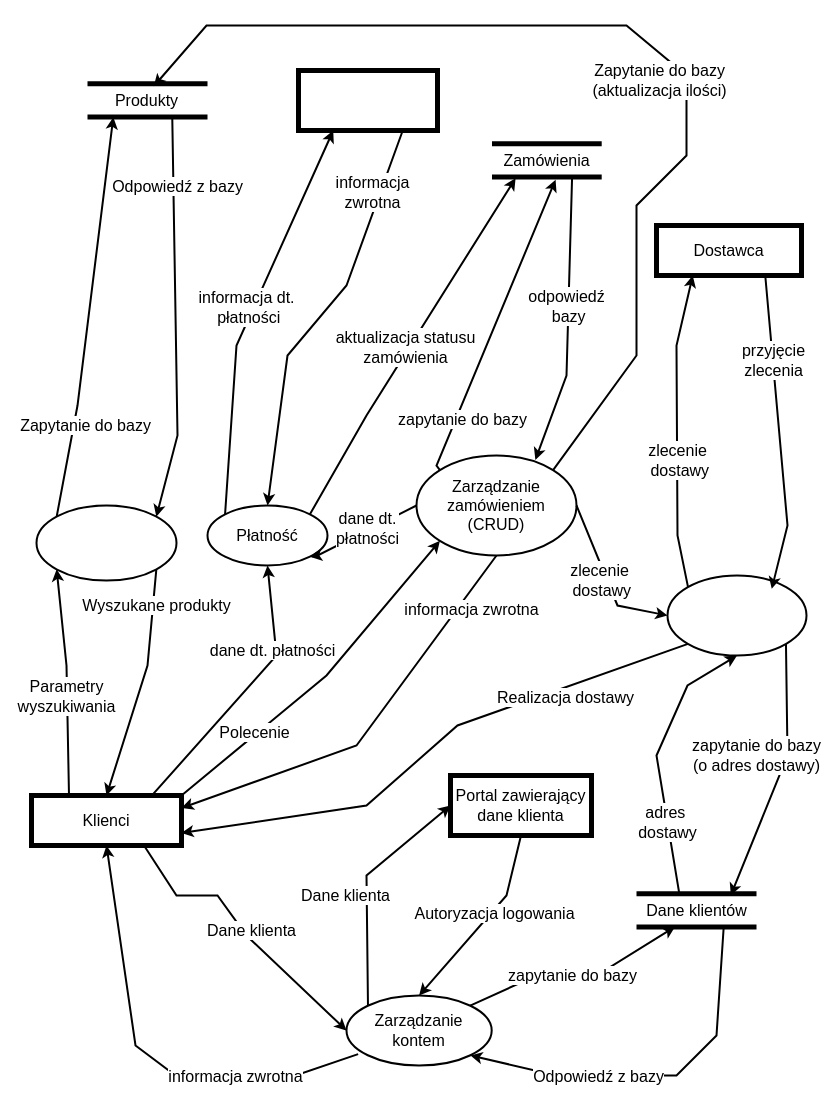
Some shapes in this 838 by 1103 pixel diagram are drawn without their labels. The shapes that lost their labels are listed below. From the top down, each one's centre as x and y in pixels, then its label:
At point 368,100: "Bank / Pośrednik płatności".
At point 106,542: "Wyszukiwanie produktów".
At point 736,615: "Dostawa".
